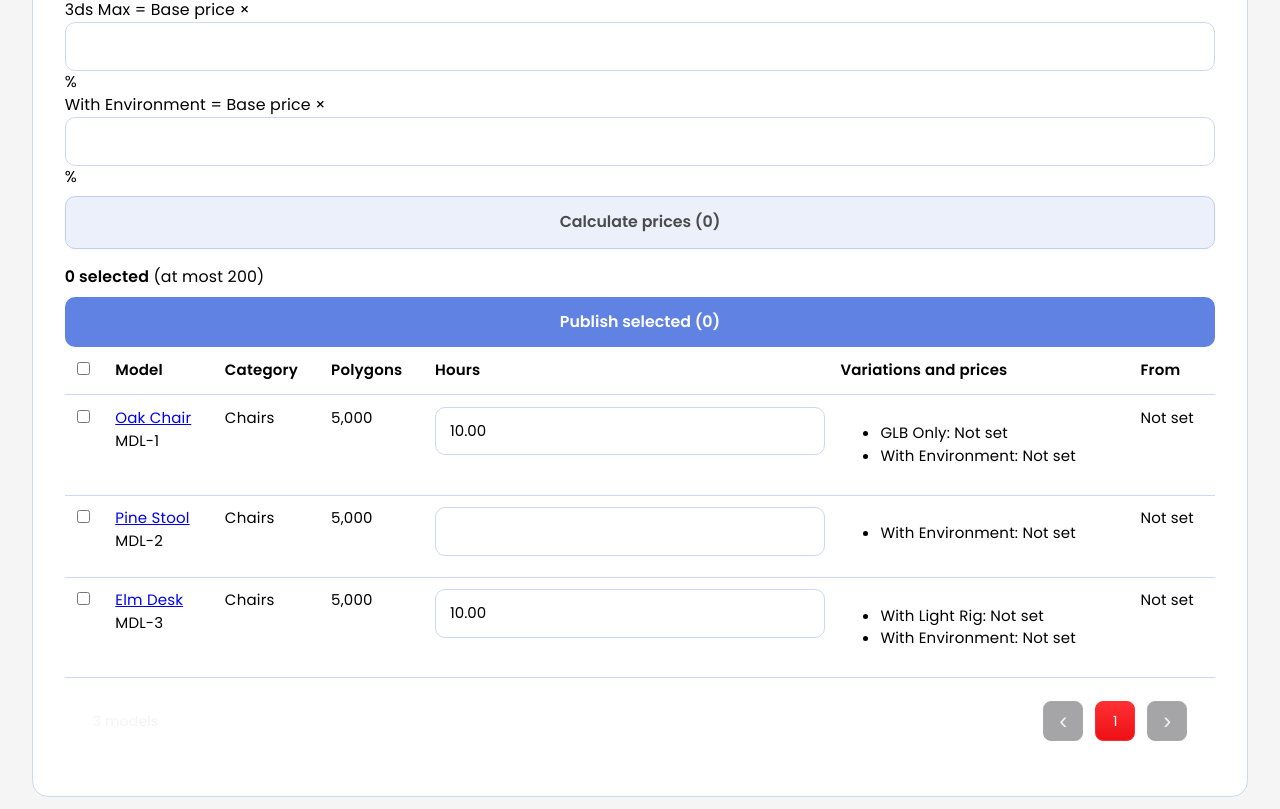
Test case: AdminPricingPage › checks the boxes before asking the server
The width and height of the screenshot is (1280, 809).
(page scrolled)
Step 1. Click the checkbox named "Select Oak Chair" → [83, 416], box [76,410,90,423]
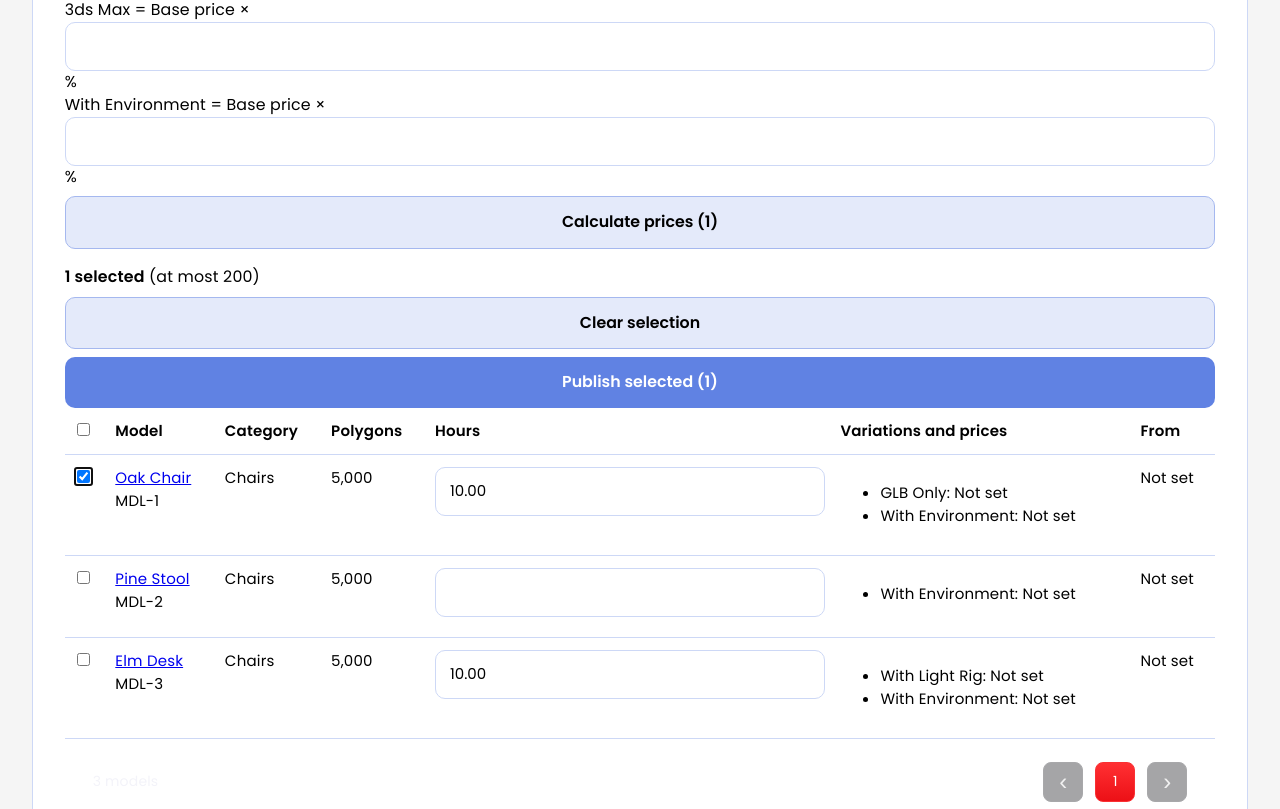
Step 2. Click the button "Calculate prices (1)" → [640, 223], box [65,196,1215,249]
(page scrolled)
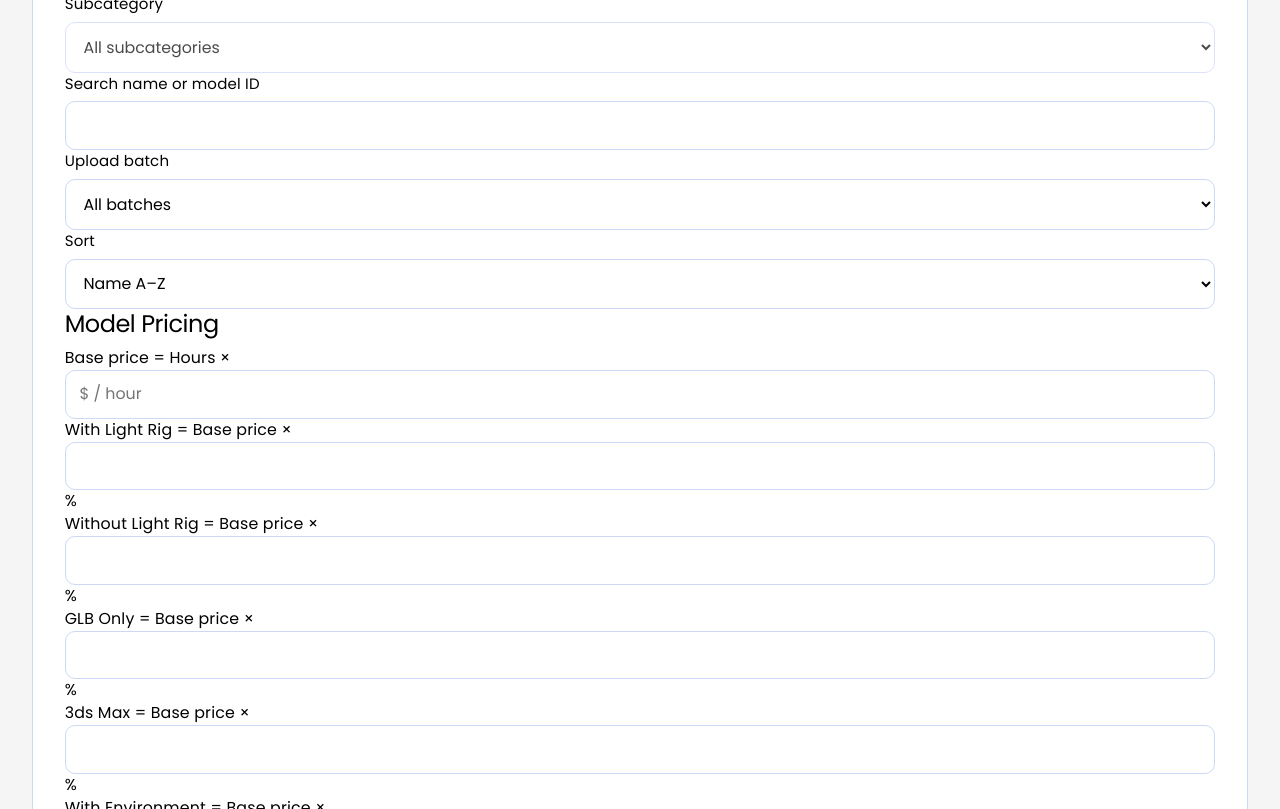
Step 3. Type "20" into the field named "Rate per hour (USD)" → [640, 395], box [65,370,1215,419]
(page scrolled)
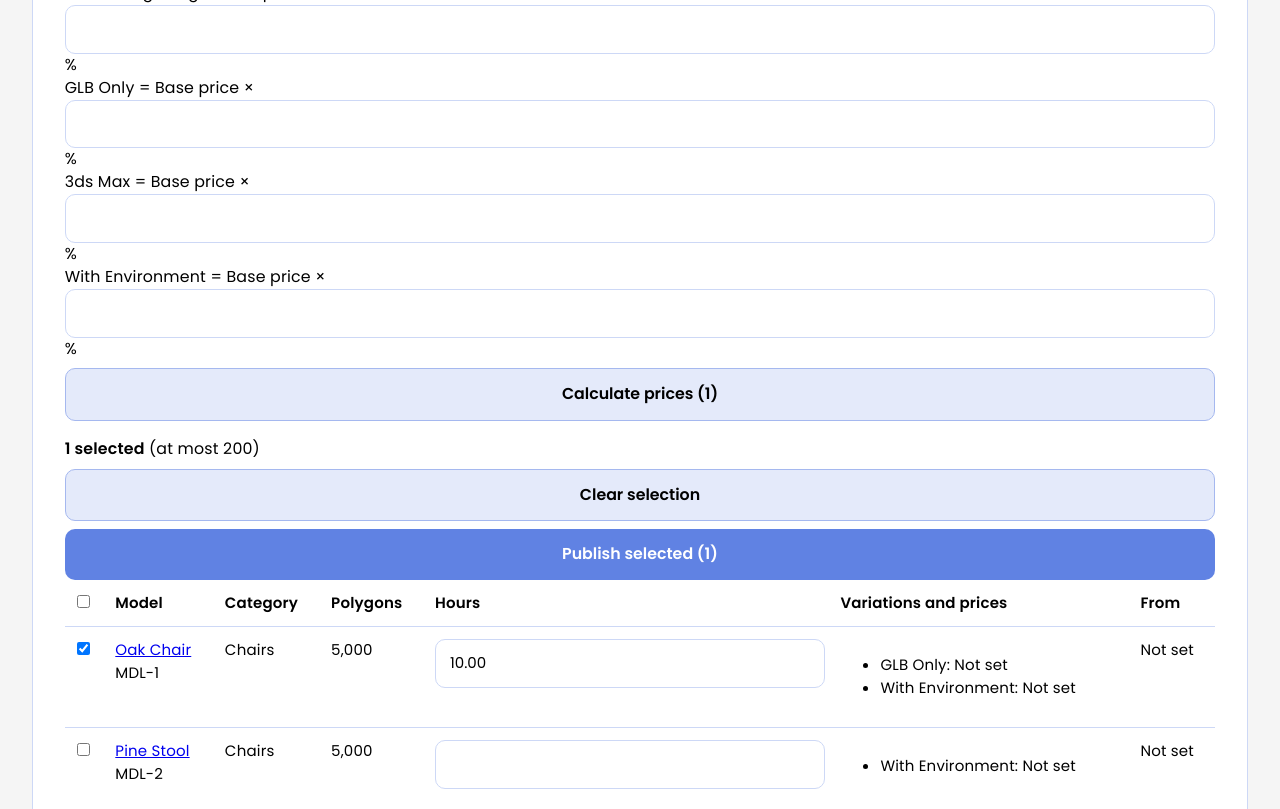
Step 4. Click the button "Calculate prices (1)" → [640, 395], box [65,368,1215,421]
(page scrolled)
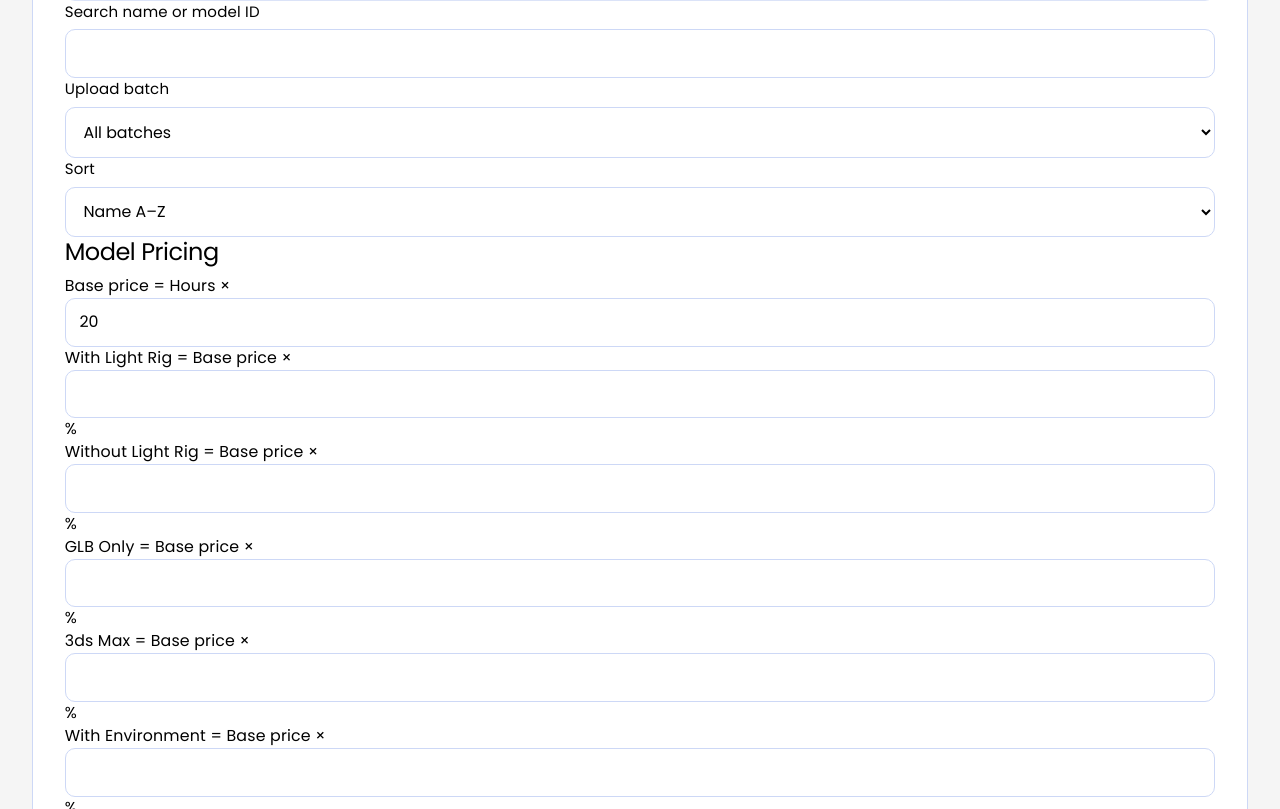
Step 5. Type "250" into the field named "With Light Rig percent" → [640, 394], box [65,370,1215,418]
(page scrolled)
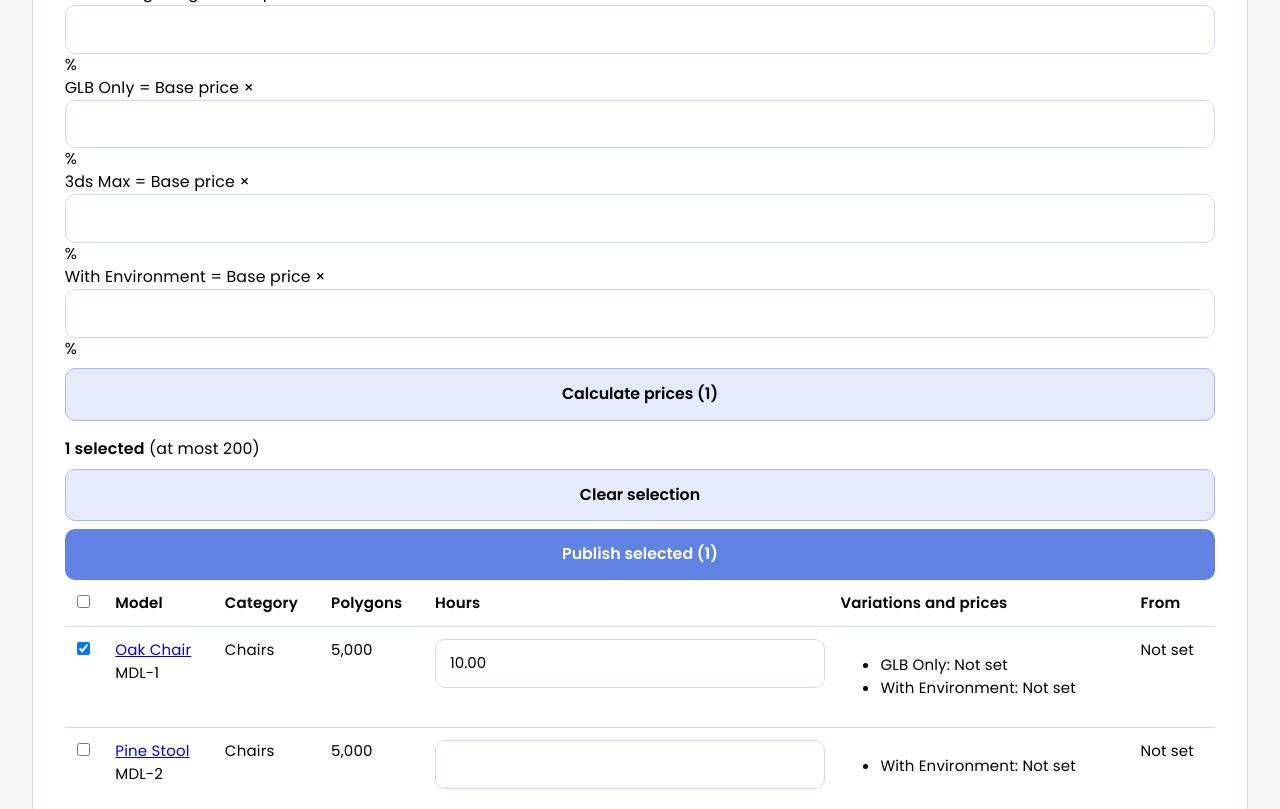
Step 6. Click the button "Calculate prices (1)" → [640, 395], box [65,368,1215,421]
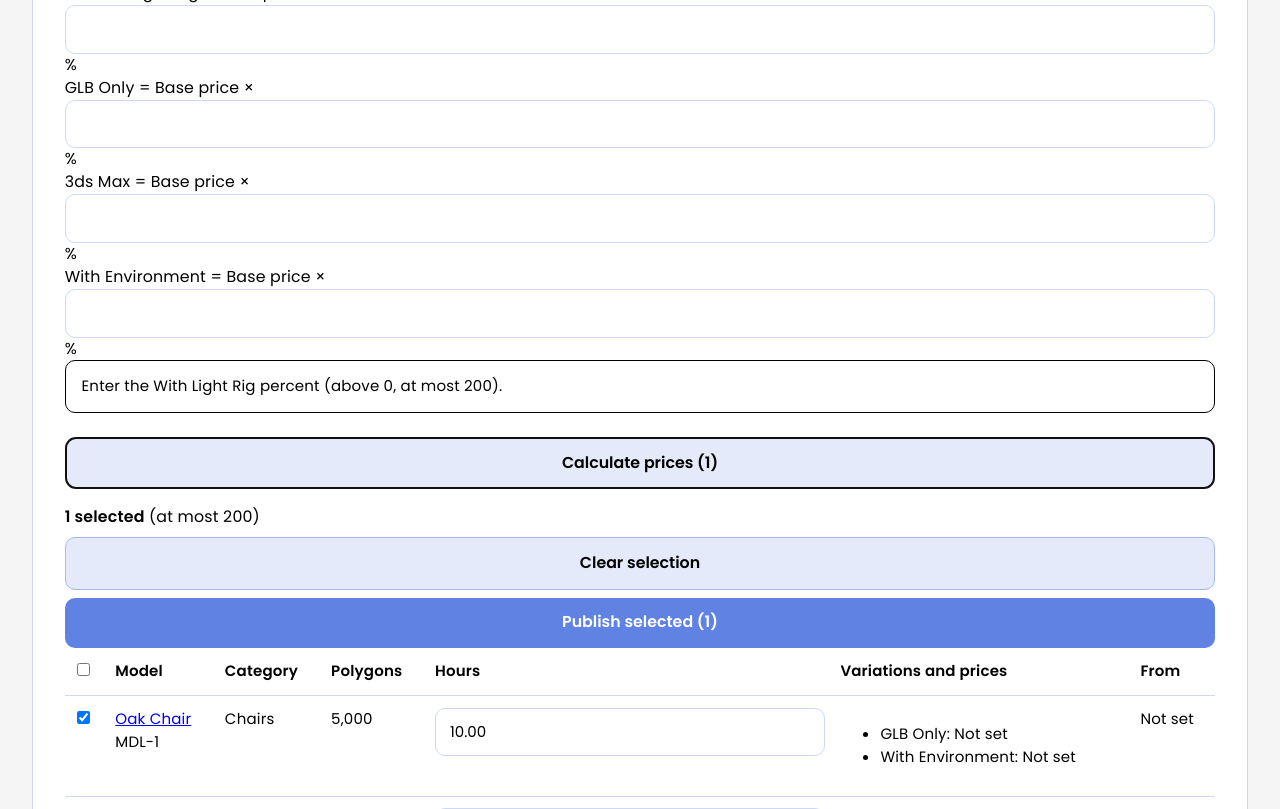
Now the text "Enter the With Light Rig percent (above 0, at most 200)." is shown, box [65,360,1215,413]
